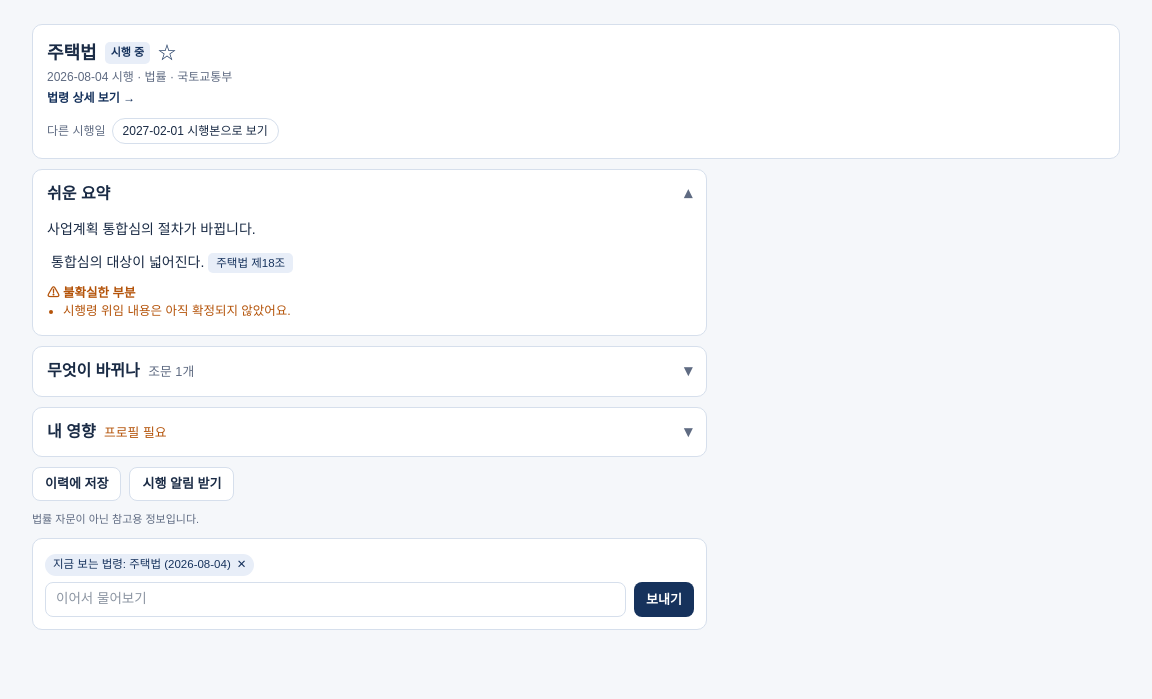
Test: AskScreen › 결과 화면 '내 영향' 카드를 열면 익명에게 로그인하기가 붙는다(renderUnmetAction 연결)
The width and height of the screenshot is (1152, 699).
Click the button "내 영향 프로필 필요 ▾": [71, 431] box x1=33 y1=408 x2=706 y2=456
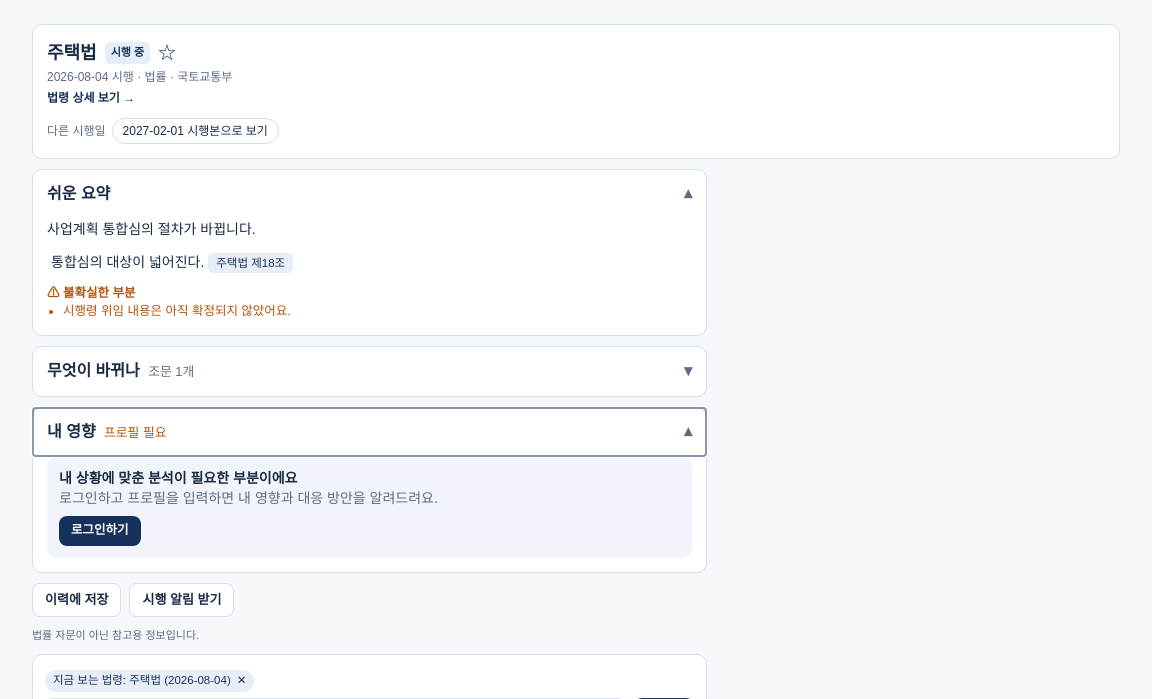
Check: the button "로그인하기" is shown, box x1=59 y1=516 x2=140 y2=546
